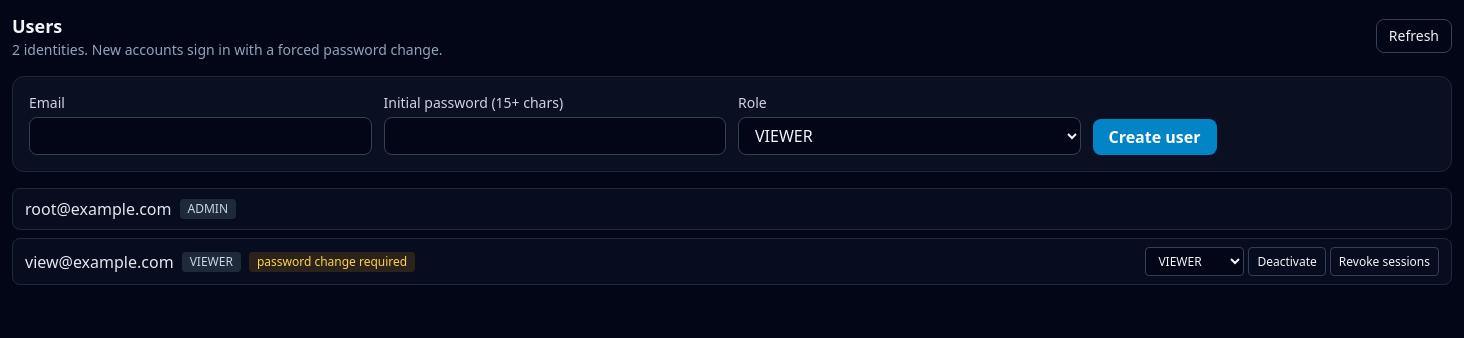
UsersPage › lists users and creates with forced-change notice
The width and height of the screenshot is (1464, 338).
Expected: the text "view@example.com" is shown, [25, 250, 174, 274]
Expected: the text "password change required" is shown, [249, 252, 415, 272]
Type "new@example.com" into the field labelled "Email" at (200, 136), box [29, 117, 372, 155]
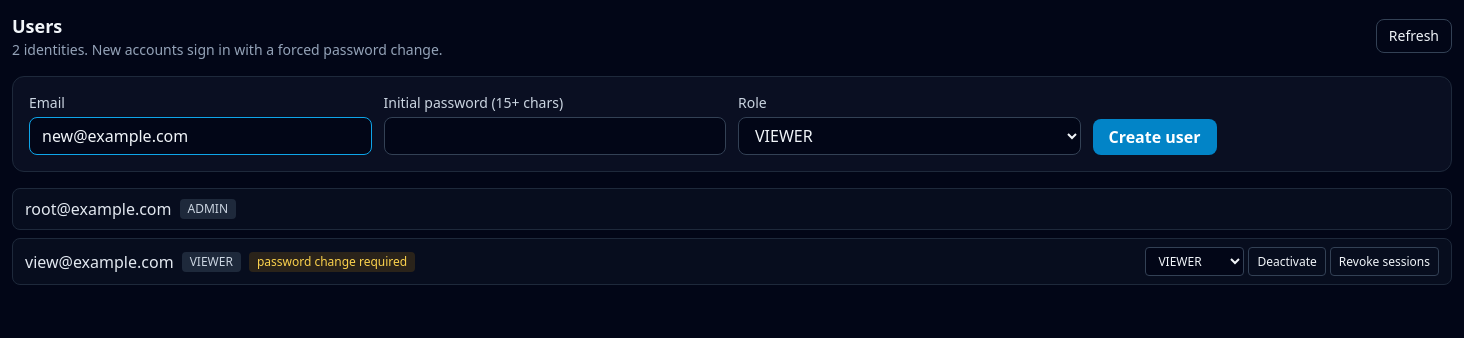
Type "long-enough-password-value" into the password field labelled "Initial password (15+ chars)" at (555, 136), box [384, 117, 726, 155]
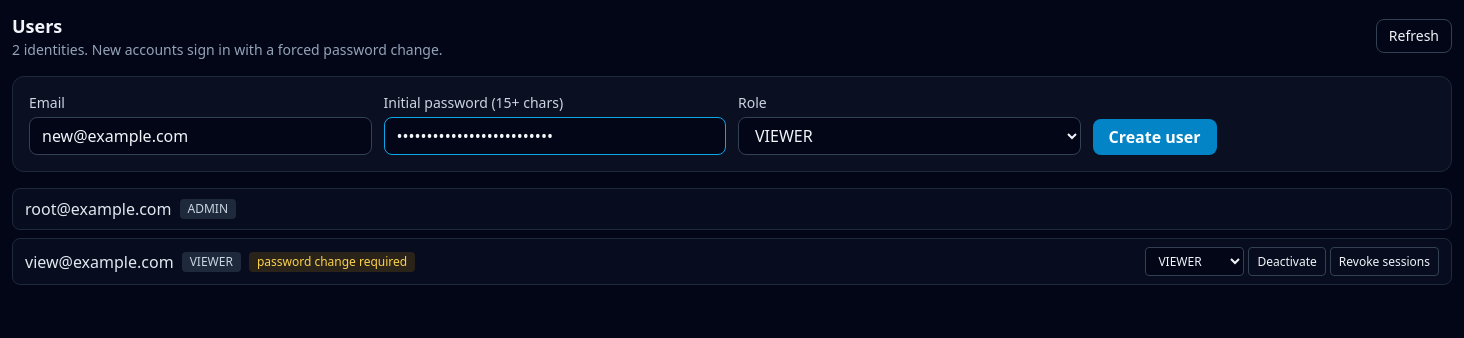
Click the button "Create user" at (1154, 137), box [1092, 119, 1216, 155]
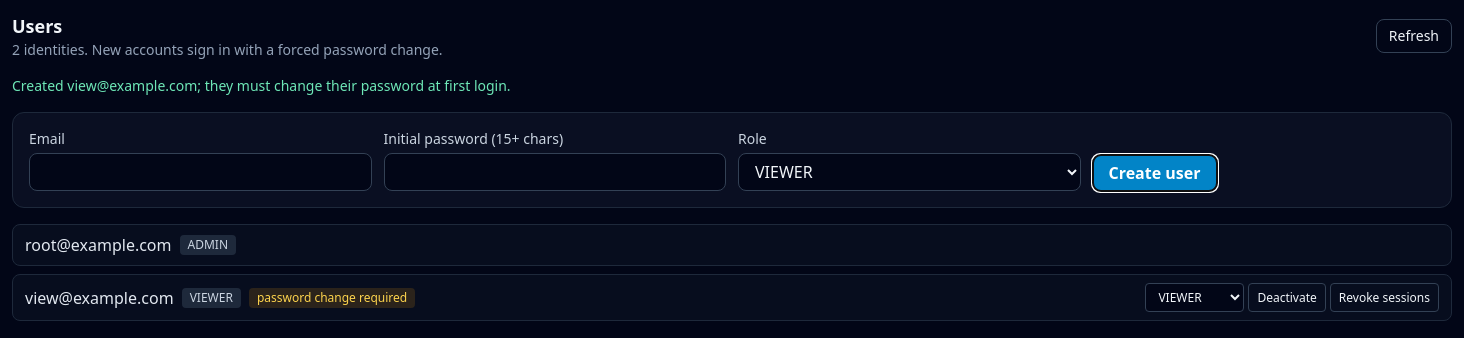
Expected: the text "must change their password at first login" is shown, [12, 76, 511, 95]
